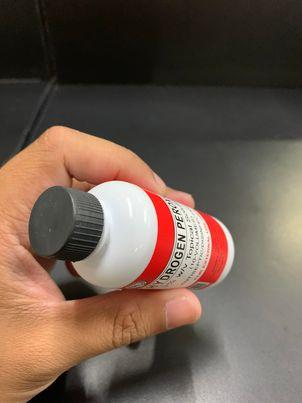-Bottle-: (27, 181, 235, 291)
